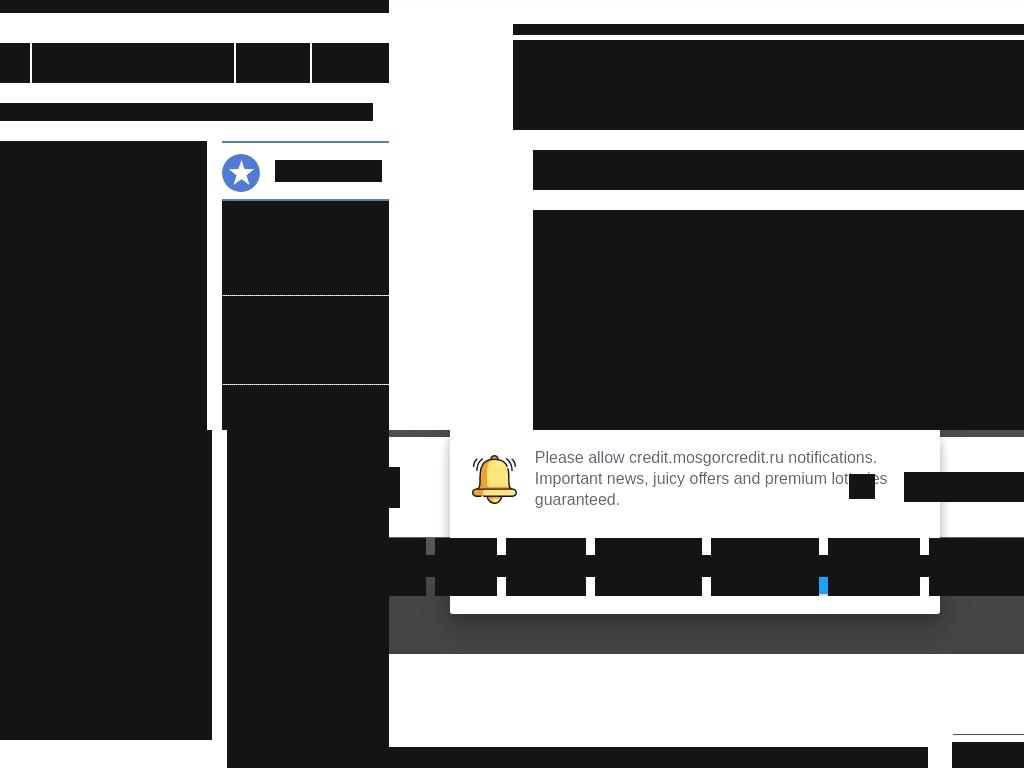button: (533, 210, 1024, 430), (0, 430, 212, 740), (0, 141, 207, 430), (227, 430, 389, 768), (222, 201, 389, 295), (222, 296, 389, 384), (32, 43, 234, 83), (222, 385, 389, 430), (711, 538, 819, 596), (595, 538, 702, 596), (929, 538, 1024, 596), (828, 538, 920, 596), (506, 538, 586, 596), (680, 558, 799, 594), (802, 558, 918, 594), (435, 538, 497, 596), (312, 43, 389, 83), (236, 43, 310, 83), (389, 538, 426, 596), (0, 43, 30, 83)
field: (904, 472, 1024, 502)
heading: (227, 617, 389, 702), (222, 209, 389, 287), (222, 304, 389, 376), (0, 617, 202, 674), (222, 393, 389, 430), (275, 160, 382, 182)
iframe: (513, 40, 1024, 130)
image: (533, 210, 1024, 430), (0, 141, 207, 430), (0, 430, 212, 594), (227, 430, 389, 594), (389, 555, 1024, 577), (470, 455, 519, 504), (849, 474, 875, 499)
link: (304, 103, 373, 121)
text: (534, 447, 920, 510), (533, 150, 1024, 190), (0, 676, 202, 740), (389, 747, 928, 768), (227, 704, 389, 768), (711, 538, 819, 596), (595, 538, 702, 596), (513, 24, 1024, 35), (929, 538, 1024, 596), (0, 103, 304, 121), (828, 538, 920, 596), (506, 538, 586, 596), (435, 538, 497, 596), (389, 747, 558, 762), (389, 538, 426, 596), (557, 747, 697, 762), (952, 742, 1024, 768), (609, 762, 765, 768)
